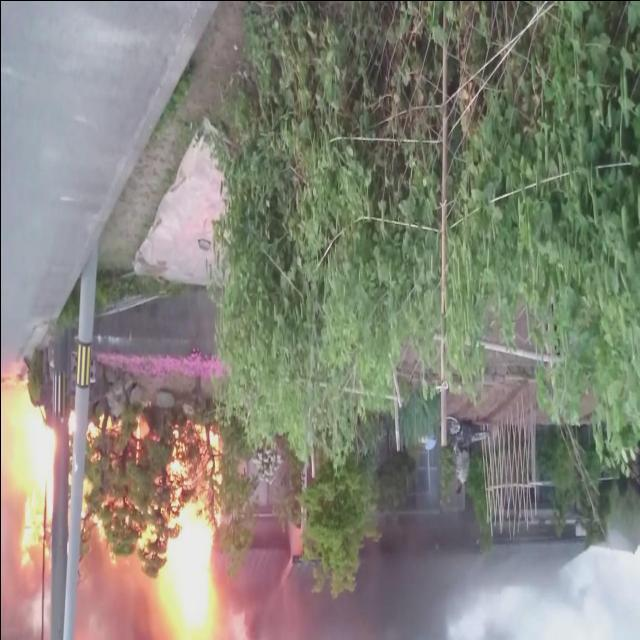Fire: (140, 422, 226, 638), (2, 378, 52, 565)
